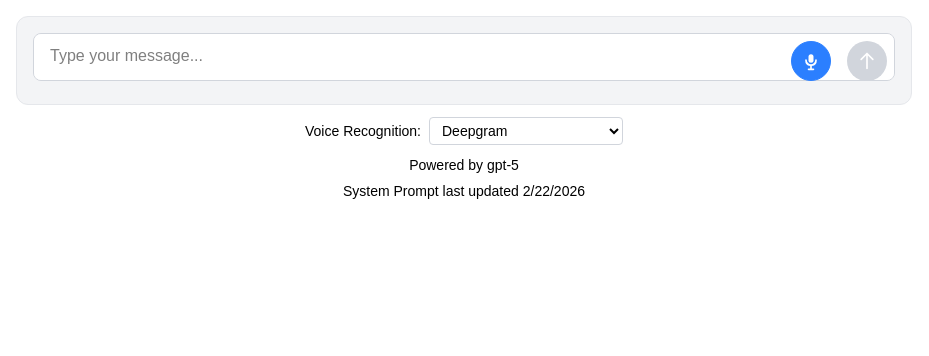
Scenario: Chat keyboard submission › submits the message and shows it in the chat when Enter is pressed
In the text box with placeholder "Type your message...": {"x": 464, "y": 57} [33,33,895,81], type "hello world"
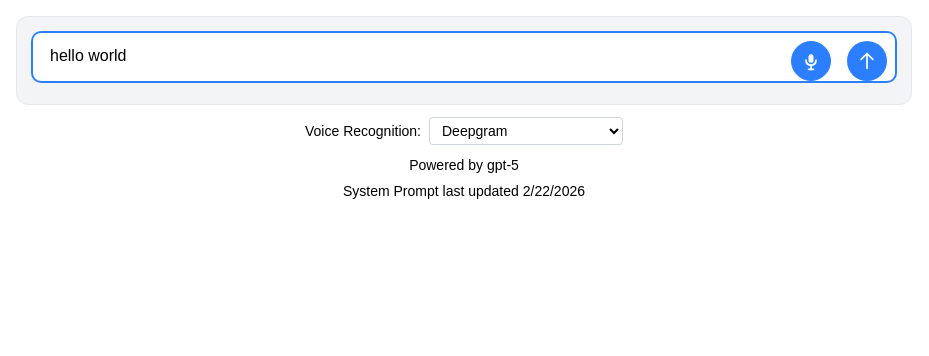
Press Enter
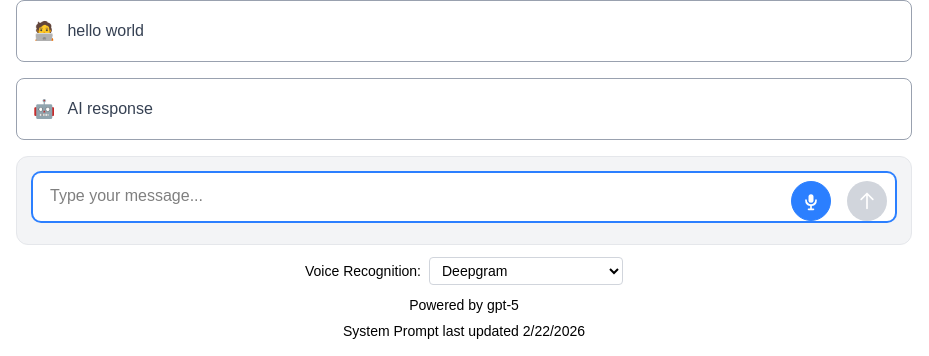
Expected: the text "hello world" is shown, [68,22,144,39]
Expected: the text "AI response" is shown, [68,100,153,117]
